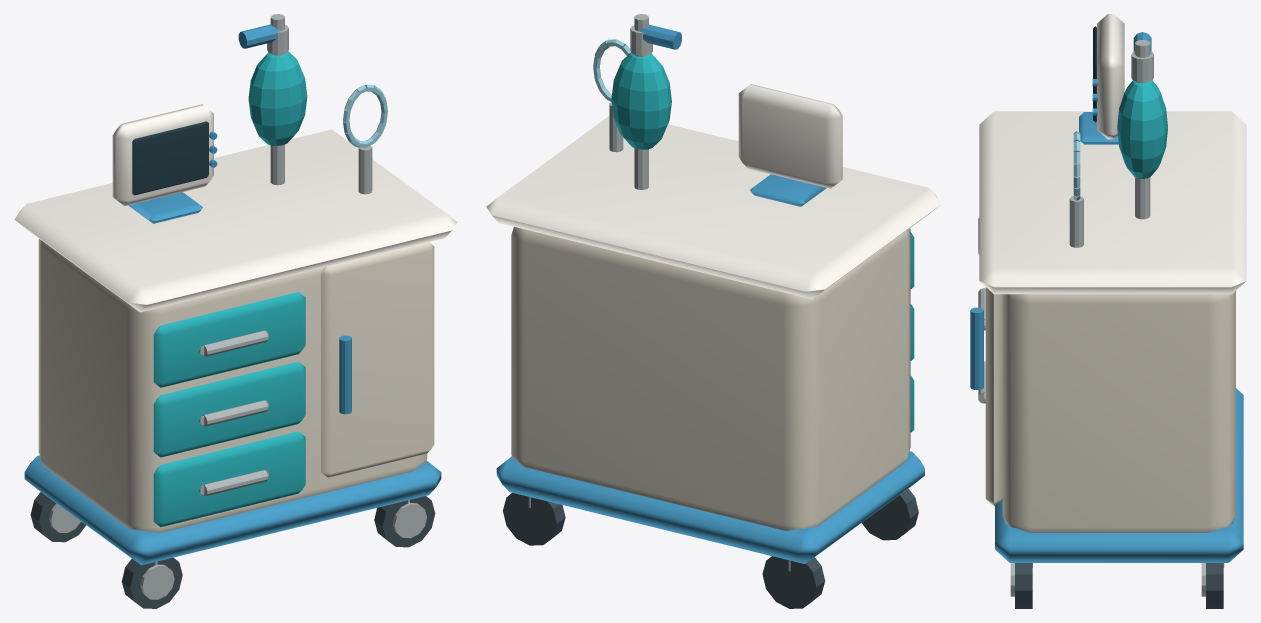
File: AirReady_standard.glb
3 views of the same model, side by side, from view 1: azimuth 30°, elevation 25°; view 2: azimuth 150°, elevation 25°; view 3: azimuth 270°, elevation 25° (orthographic). The views are drawn at different scales.
Visible parts, largest first — view 1: Static_white, Static_ivory, Door_Storage_door.001, Static_blue, Drawer_3, Drawer_2, Drawer_1, Static_steel, Static_screen, Static_teal, Static_dark, Static_lightblue (+1 smaller); view 2: Static_ivory, Static_white, Static_blue, Static_dark, Static_teal, Static_steel, Static_lightblue; view 3: Static_ivory, Static_white, Static_blue, Static_teal, Door_Storage_door.001, Static_steel, Static_dark, Door_Door_pull.001, Static_lightblue.
Part boxes in pixels (x1,y1,x2,y2): Static_white: (14, 104, 457, 312); Static_ivory: (38, 239, 427, 532); Door_Storage_door.001: (321, 242, 434, 477); Static_blue: (24, 24, 441, 565); Drawer_3: (153, 431, 305, 527); Drawer_2: (153, 361, 305, 457); Drawer_1: (153, 292, 305, 387); Static_steel: (49, 14, 426, 599); Static_screen: (132, 121, 208, 195); Static_teal: (248, 51, 307, 145); Static_dark: (30, 492, 435, 608); Static_lightblue: (343, 84, 387, 147); Static_ivory: (511, 227, 910, 530); Static_white: (486, 84, 941, 299); Static_blue: (496, 24, 924, 563); Static_dark: (503, 488, 918, 608); Static_teal: (611, 52, 671, 149); Static_steel: (528, 14, 790, 571); Static_lightblue: (593, 39, 630, 102); Static_ivory: (1002, 291, 1235, 532); Static_white: (979, 14, 1246, 294); Static_blue: (995, 32, 1243, 562); Static_teal: (1117, 80, 1167, 178); Door_Storage_door.001: (985, 287, 1002, 505); Static_steel: (1010, 40, 1224, 596); Static_dark: (1015, 563, 1223, 608); Door_Door_pull.001: (970, 307, 983, 389); Static_lightblue: (1073, 131, 1080, 200).
Bounding box in the file's own units: 0.94 × 1.37 × 0.651.
